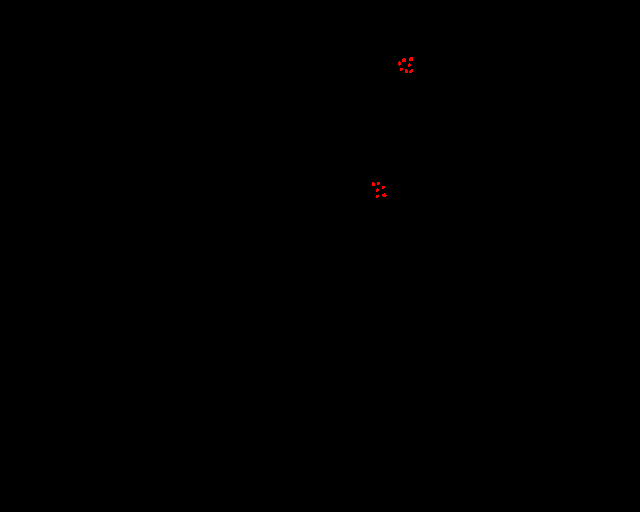Target: (382, 193, 387, 197), (409, 57, 413, 61), (402, 58, 406, 62), (409, 69, 413, 73), (398, 61, 401, 66), (408, 63, 411, 67), (405, 69, 408, 73), (372, 182, 375, 186), (376, 188, 379, 192), (400, 68, 403, 71), (377, 182, 380, 185), (382, 186, 385, 189), (376, 195, 379, 198)
